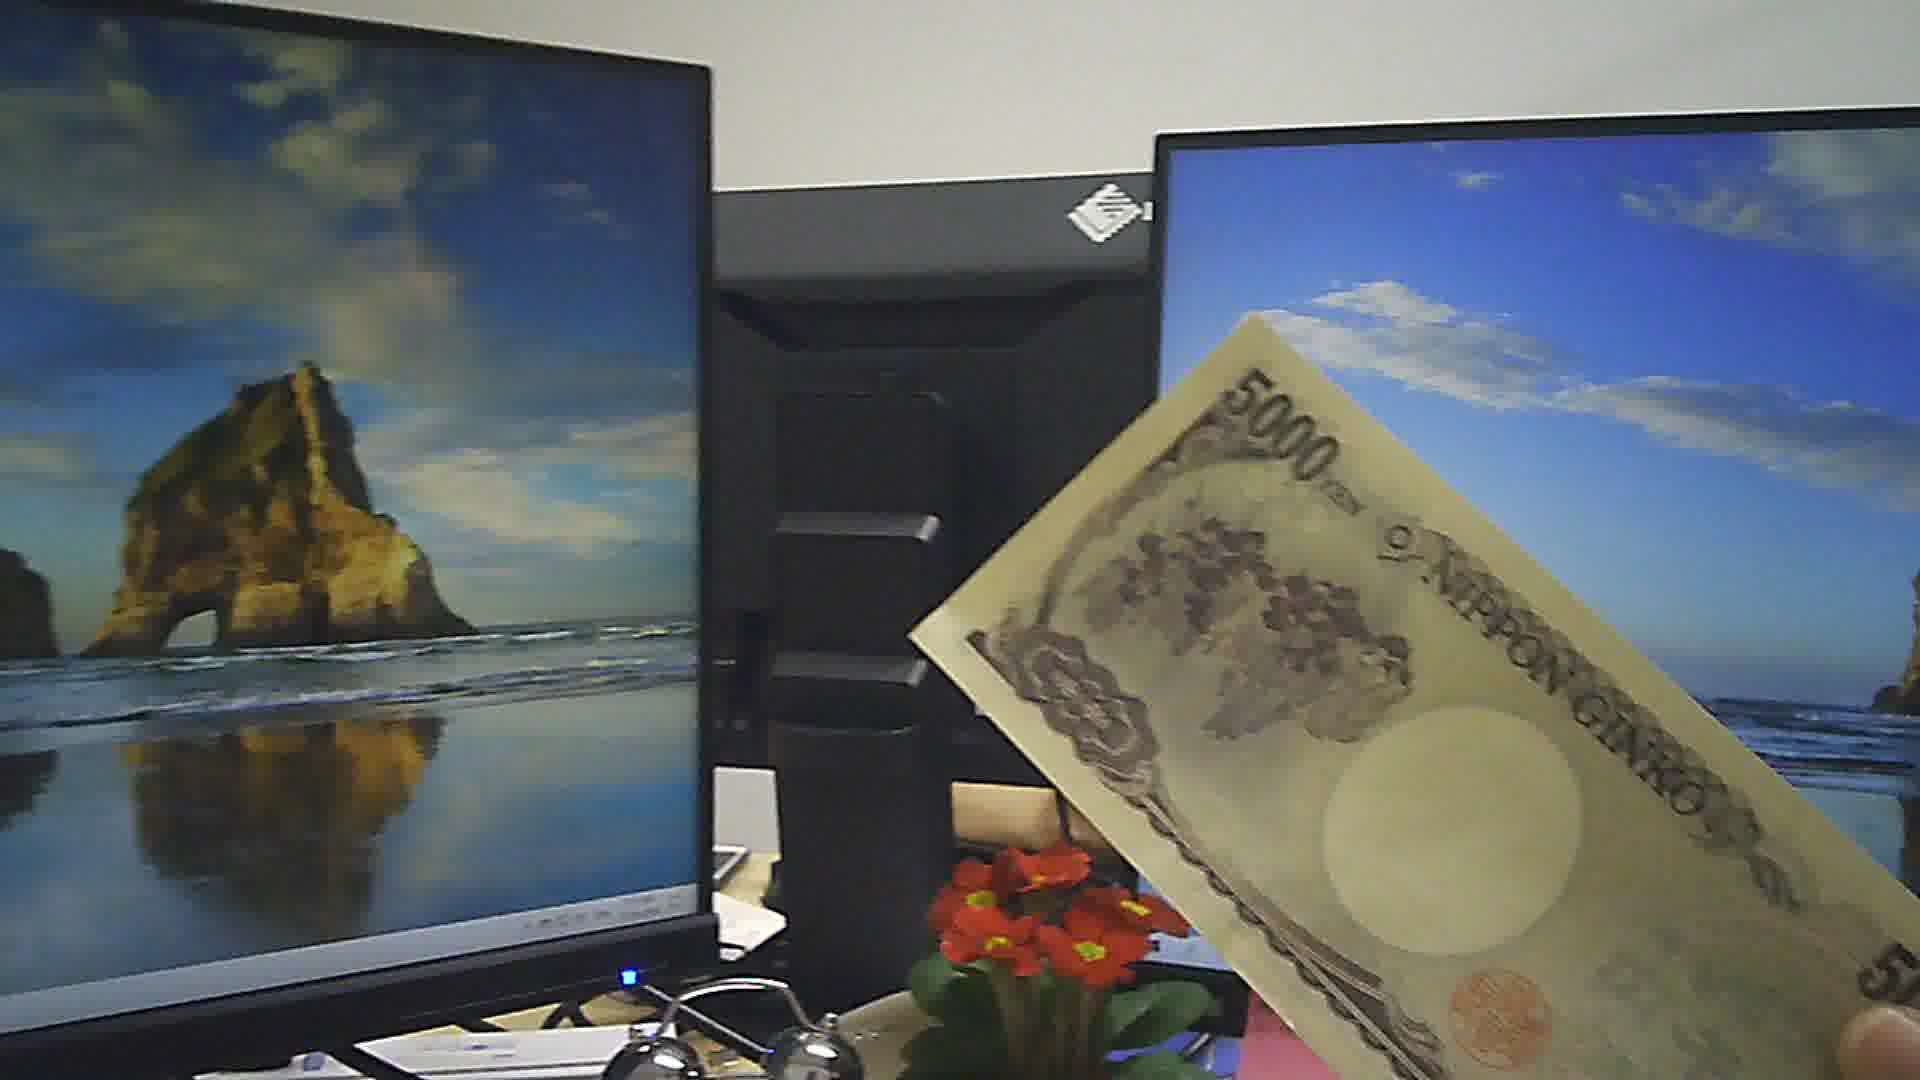5,000 Yen: (895, 328, 1899, 1079)
